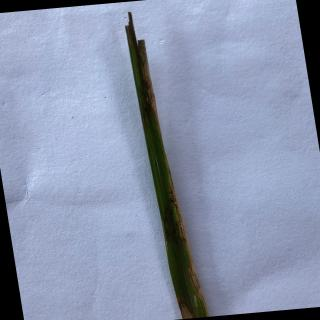Hawar-Daun: (167, 171, 210, 316), (140, 55, 158, 114), (178, 303, 196, 319)
